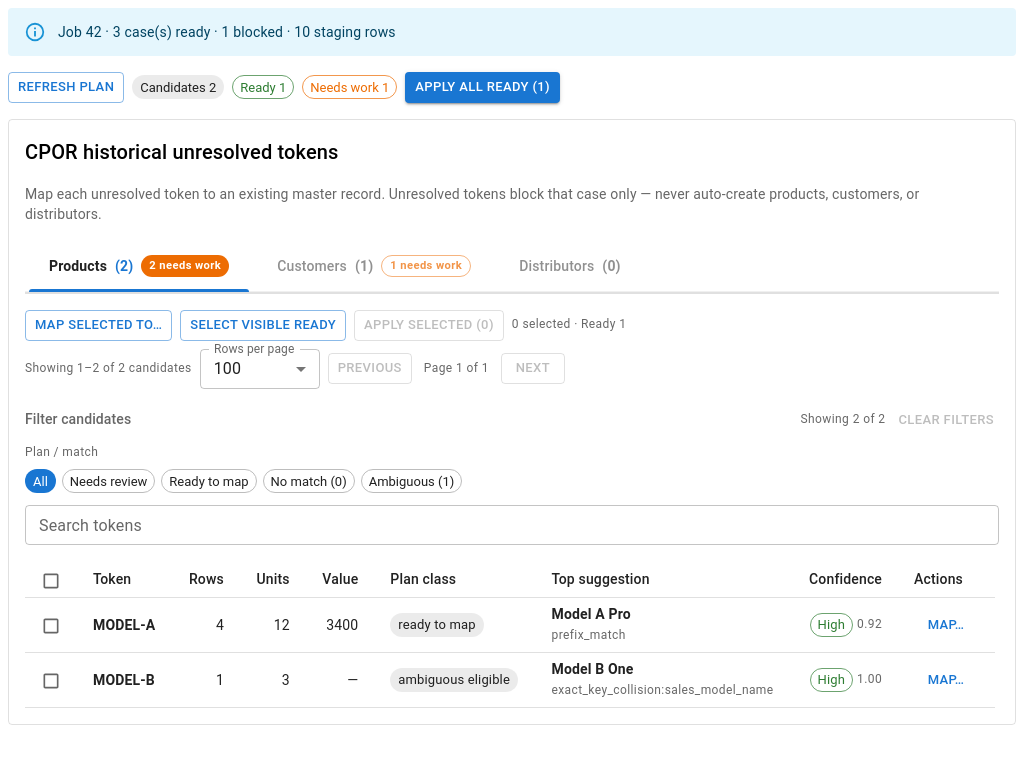
CporHistoricalImportJobResolutionSection › filters by plan_class ready_to_map via server plan_class param
Expected: the text "MODEL-A" is shown, x1=93 y1=615 x2=156 y2=635
Expected: the text "MODEL-B" is shown, x1=93 y1=670 x2=156 y2=690
Click the button with test id "dsi-filter-queue-ready_to_map". click: (209, 481)
box: x1=161 y1=469 x2=257 y2=493
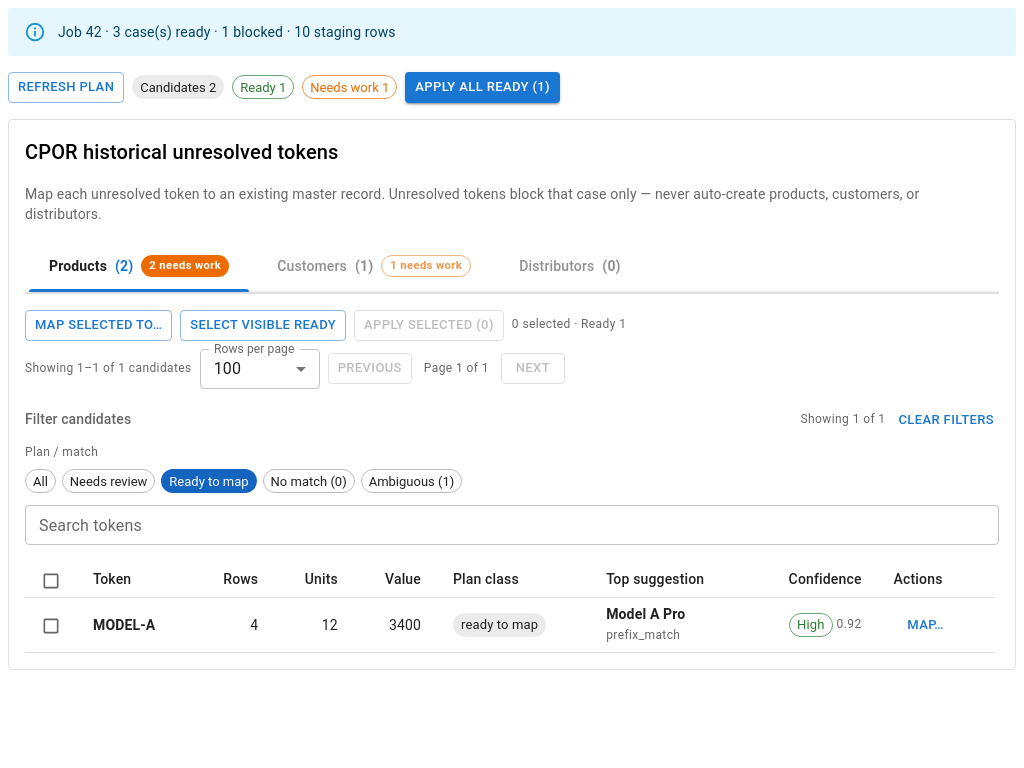
Expected: the text "MODEL-A" is shown, x1=93 y1=617 x2=155 y2=633
Expected: the text "MODEL-B" is gone
